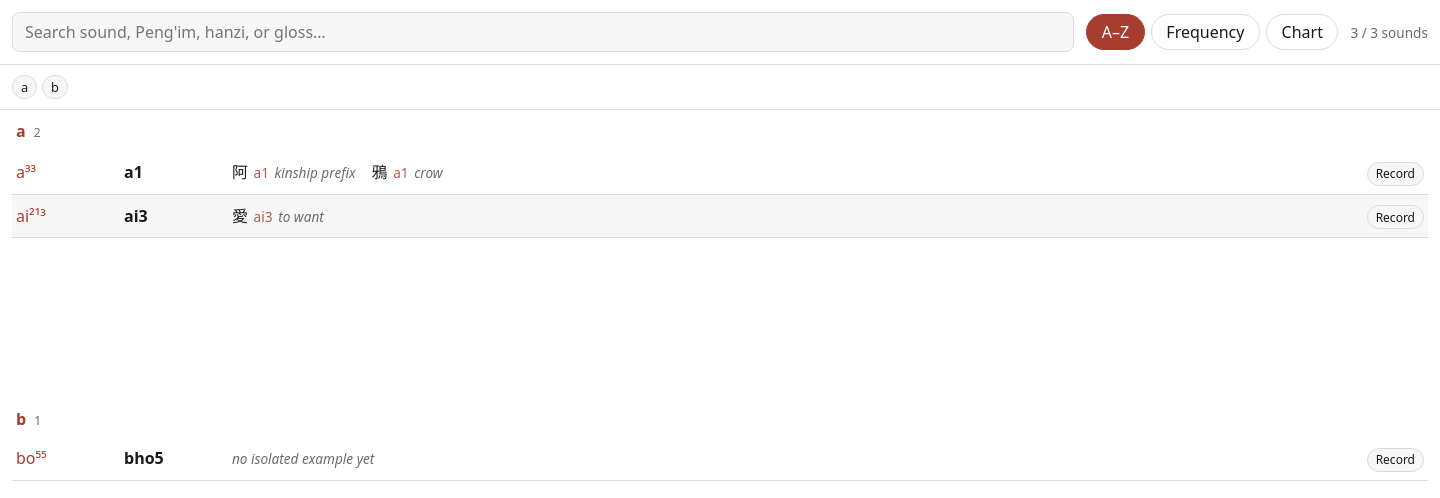
SoundsView › switching back to A–Z restores the grouped alphabetical view
Expected: the text "a³³" is shown, [16, 161, 36, 183]
Click the button "Frequency" at (1205, 32), box [1151, 14, 1260, 50]
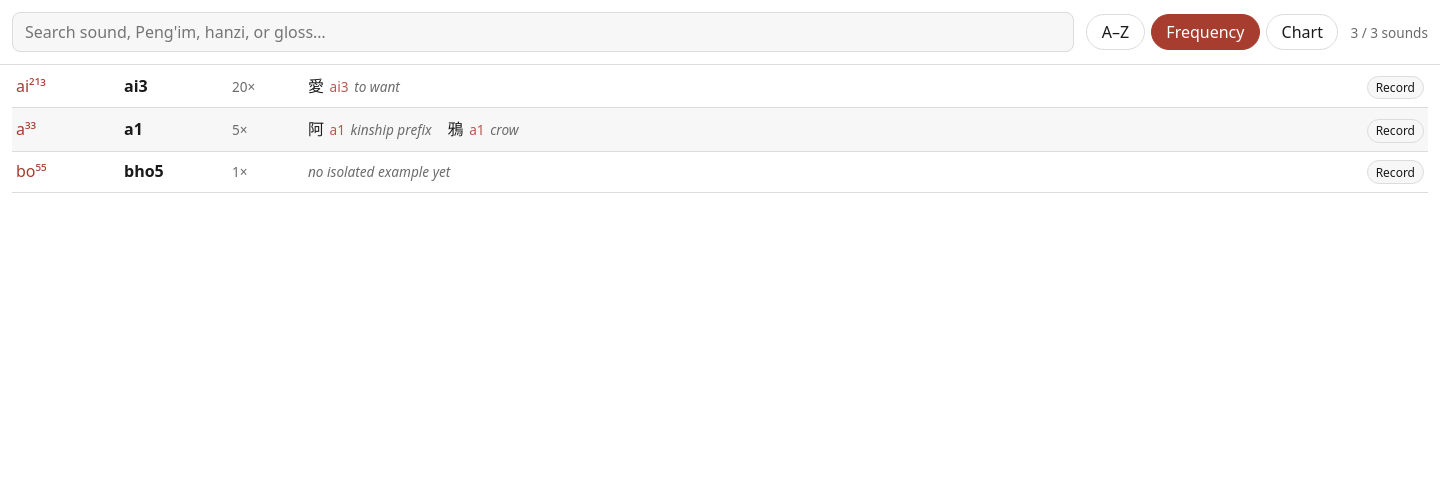
Click the button "A–Z" at (1116, 32), box [1086, 14, 1145, 50]
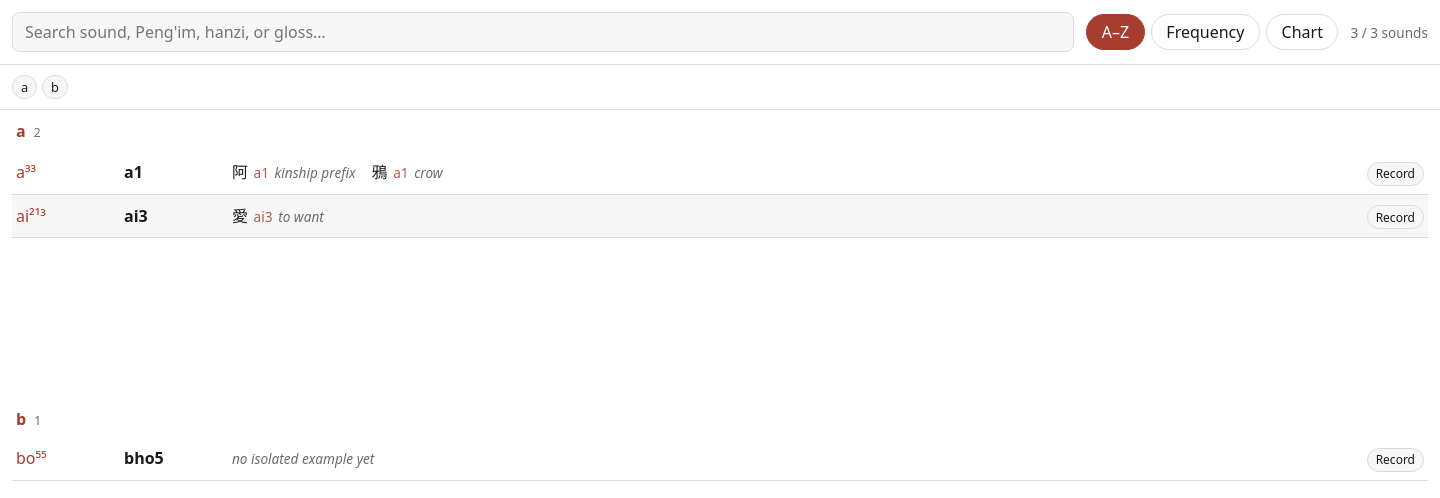
Expected: the navigation bar named "Jump to initial" is shown, [0, 65, 1439, 110]
